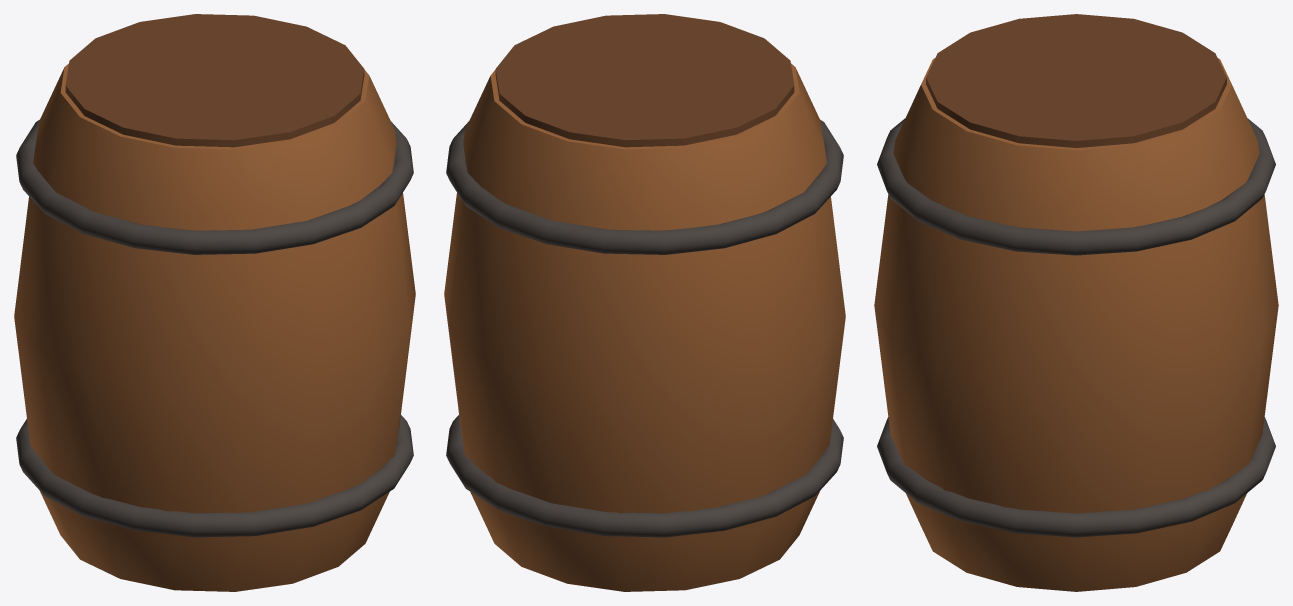
File: barril.glb
3 renders of one model, left to right at view 1: azimuth 30°, elevation 25°; view 2: azimuth 150°, elevation 25°; view 3: azimuth 270°, elevation 25°, orthographic.
Visible parts, largest first — view 1: barril; view 2: barril; view 3: barril.
Part boxes in pixels (x1,y1,x2,y2): barril: (14,14,415,591); barril: (444,14,845,591); barril: (874,14,1278,591).
Bounding box in the file's own units: 0.78 × 0.955 × 0.78.
